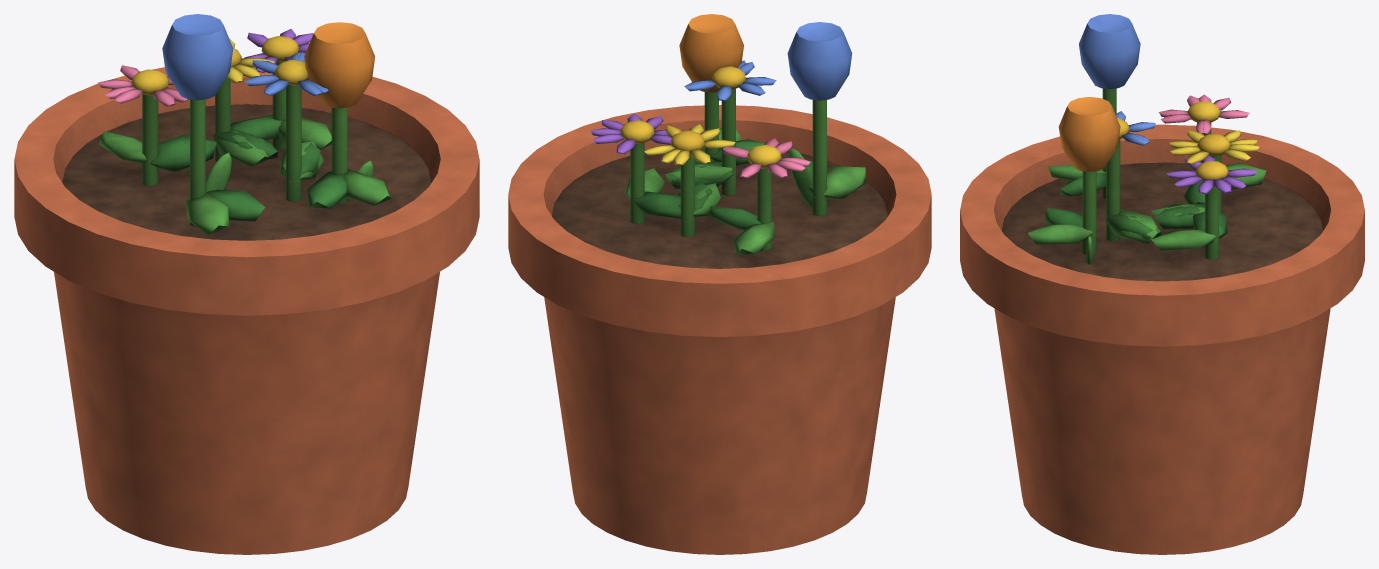
Rendered from FlowerPot.fbx.
The picture shows the model from 3 angles, left to right: view 1: azimuth 30°, elevation 25°; view 2: azimuth 150°, elevation 25°; view 3: azimuth 270°, elevation 25°; orthographic projection. The views are drawn at different scales.
Visible parts, largest first — view 1: FlowerPot; view 2: FlowerPot; view 3: FlowerPot.
Boxes of the visible parts, box(x1,y1,x2,y2) form: FlowerPot: box(14, 14, 479, 554); FlowerPot: box(508, 14, 931, 554); FlowerPot: box(960, 14, 1364, 554).
Size of the model in its own units: 1.44 by 1.72 by 1.44.
Materials: 1 (1 with a texture image).
